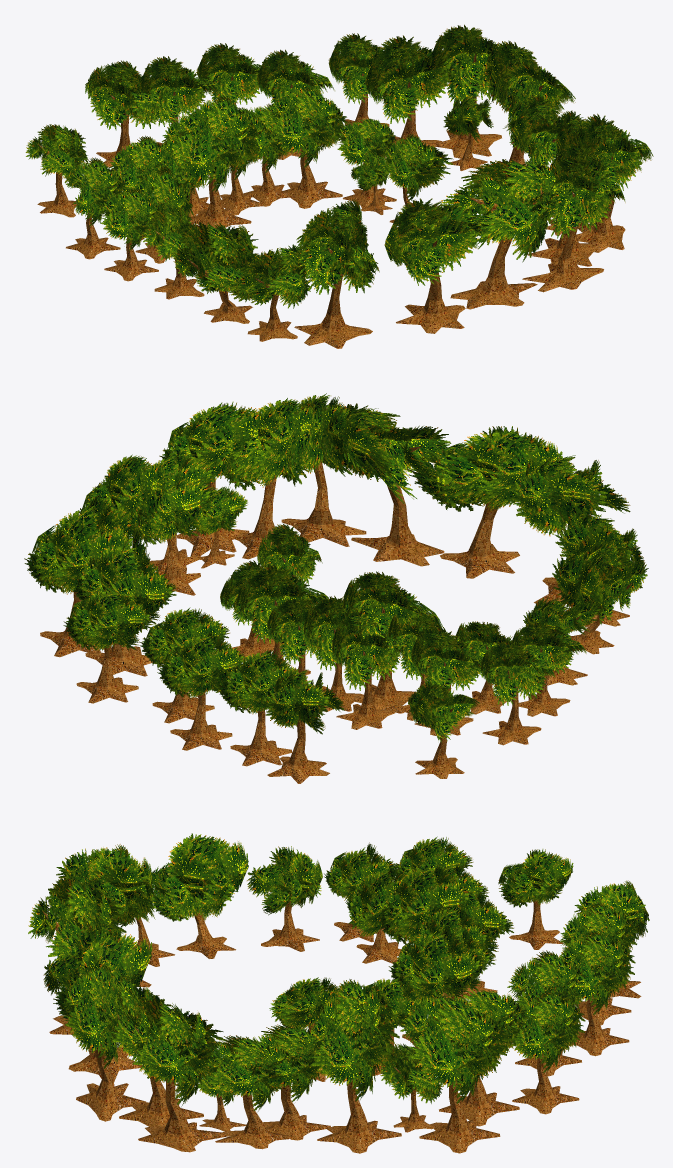
File: trees.fbx
3 renders of one model, top to bottom at view 1: azimuth 30°, elevation 25°; view 2: azimuth 150°, elevation 25°; view 3: azimuth 270°, elevation 25°, orthographic. The views are drawn at different scales.
Visible parts, largest first — view 1: tree.001; view 2: tree.001; view 3: tree.001.
Boxes of the visible parts, x1=… form: tree.001: x1=25, y1=24, x2=653, y2=348; tree.001: x1=24, y1=393, x2=648, y2=783; tree.001: x1=28, y1=833, x2=649, y2=1153.
Size of the model in its own units: 5182 by 1505 by 5508.
